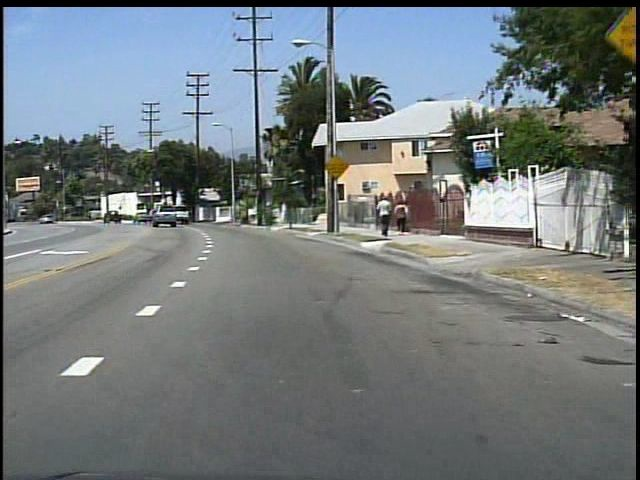person: (372, 193, 391, 238), (390, 199, 409, 235)
